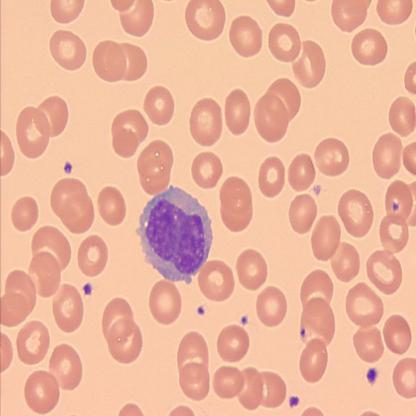Monocyte: (133, 183, 215, 285)
